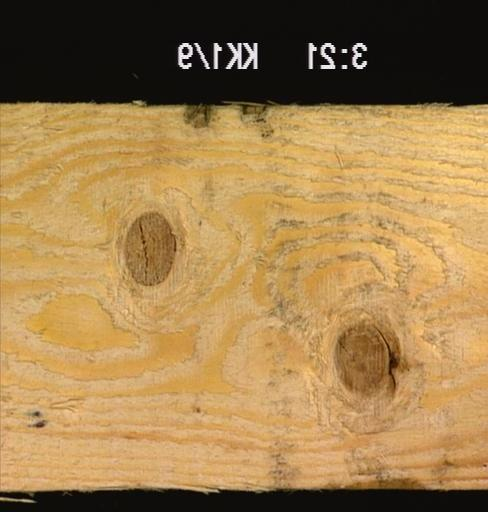dry_knot: (327, 314, 398, 404)
sound_knot: (120, 210, 179, 289)
wave: (366, 468, 423, 488)
